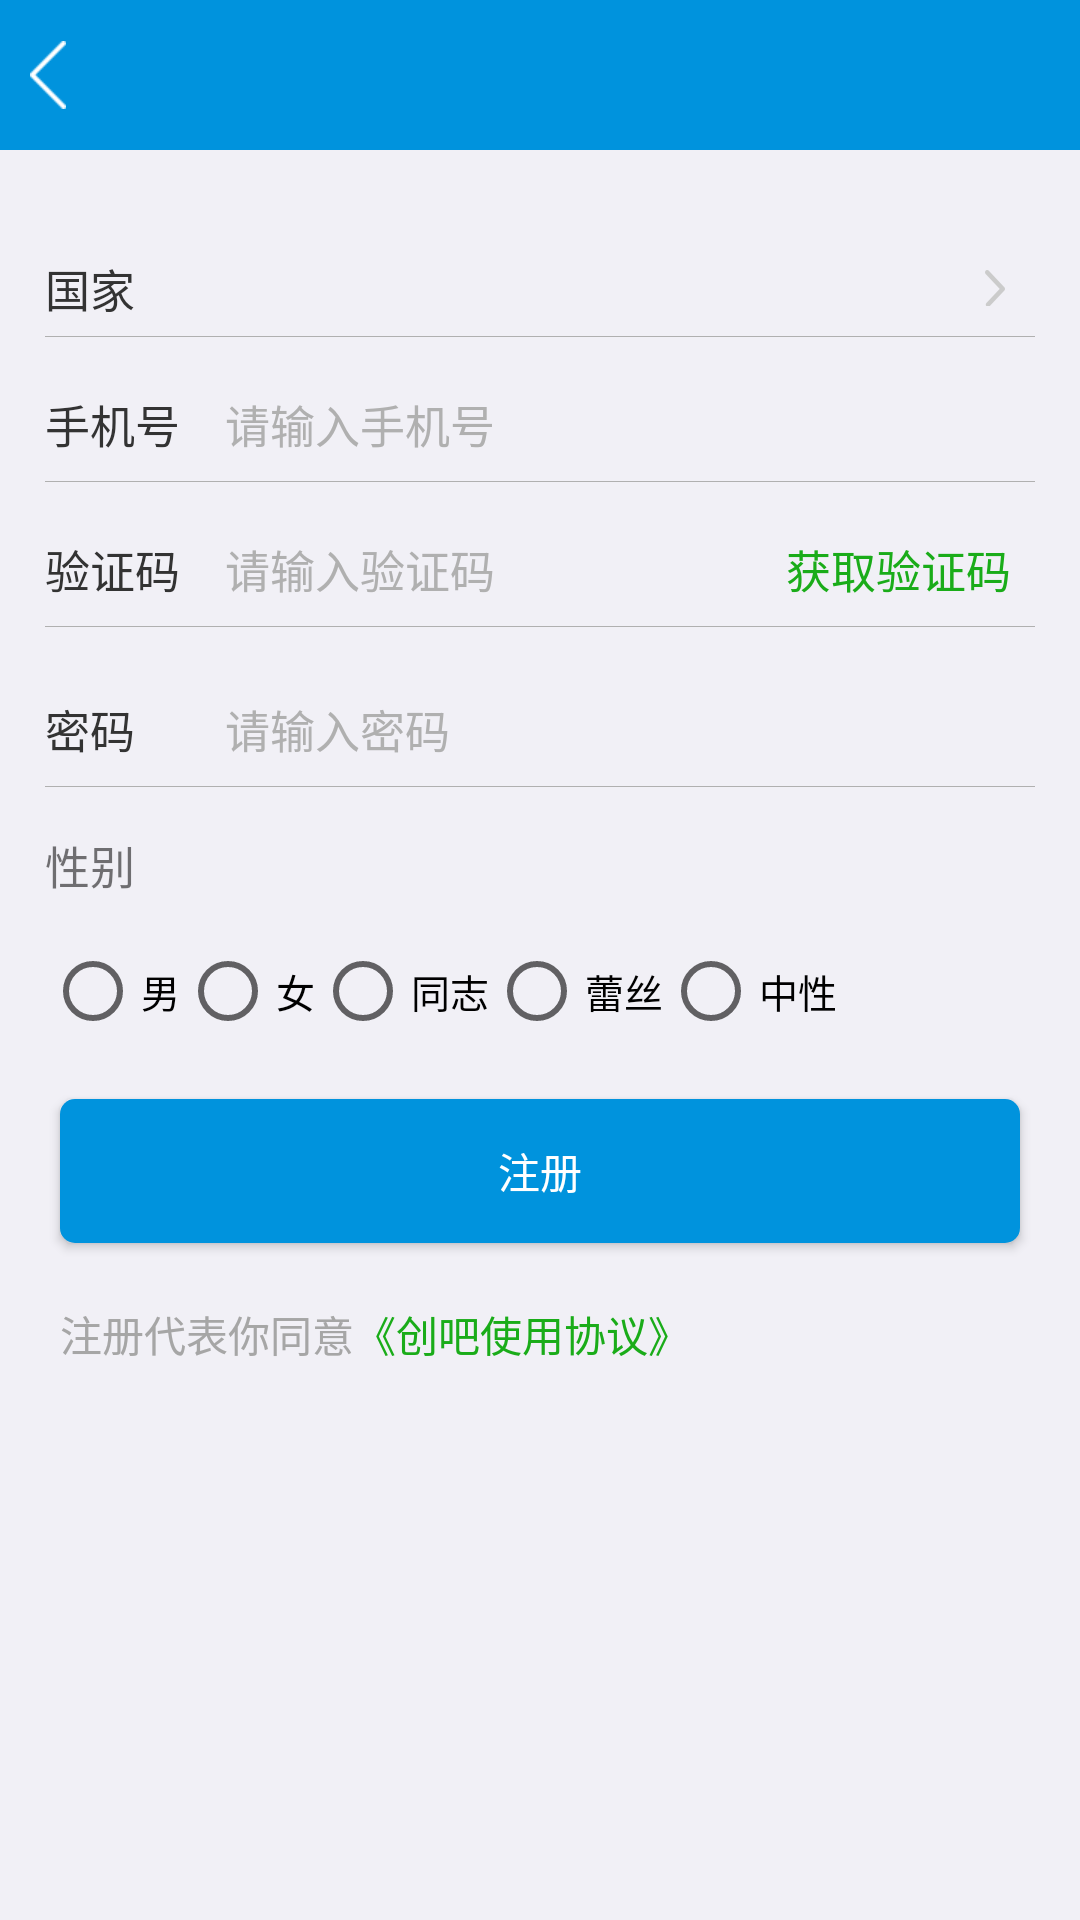

Screen size 1080x1920. Icon name, then its center in pixels as point (x, y):
back: point (48, 75)
right: point (995, 288)
